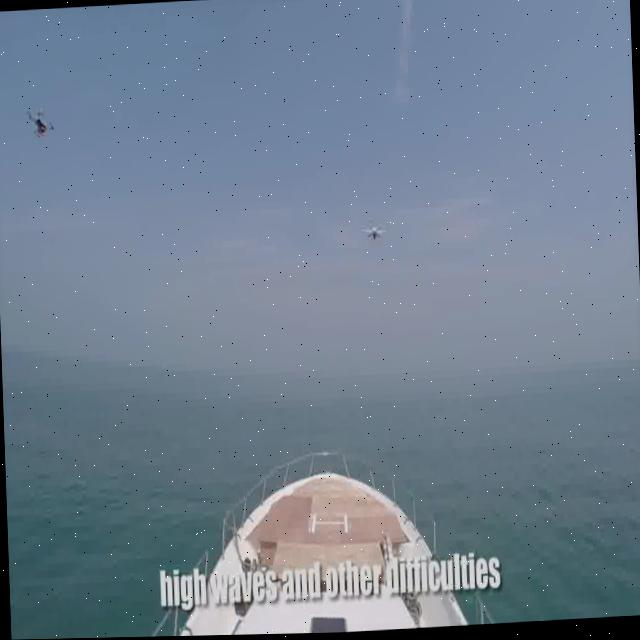drone: (22, 101, 56, 145), (360, 216, 386, 247)
